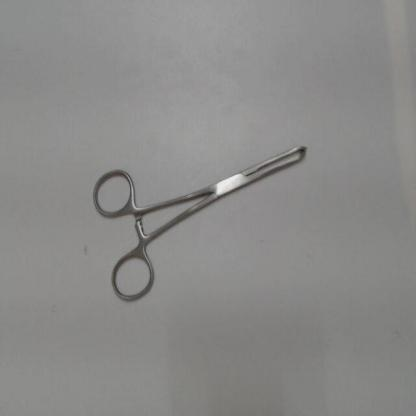Allis Tissue Forceps: (85, 137, 318, 308)
